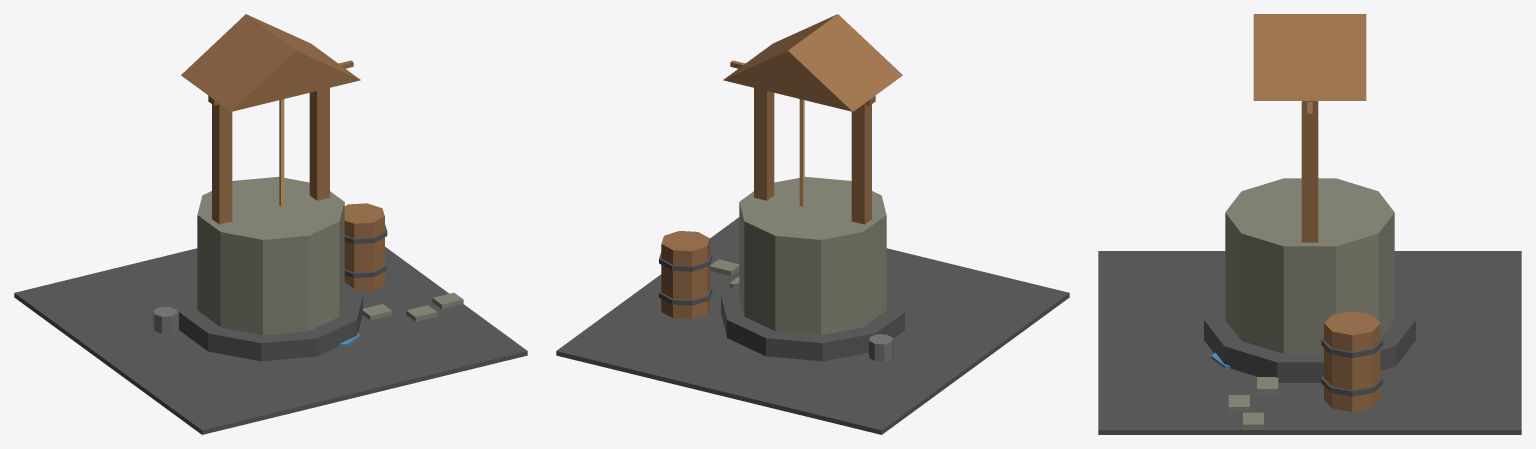
Rendered from well.glb.
3 renders of one model, left to right at view 1: azimuth 30°, elevation 25°; view 2: azimuth 150°, elevation 25°; view 3: azimuth 270°, elevation 25°, orthographic. The views are drawn at different scales.
Parts seen in each view (by area): view 1: Ground, Well_Wall, Well_Roof, Well_Base, WaterBarrel, Post_L, Post_R, Rope, SpareBucket; view 2: Ground, Well_Wall, Well_Roof, Well_Base, WaterBarrel, Post_L, Post_R, Rope, SpareBucket; view 3: Ground, Well_Wall, Well_Roof, Well_Base, WaterBarrel, Post_R, BarrelBand1, BarrelBand2.
Part boxes in pixels (bbox=[...]): Ground: bbox=[14, 247, 527, 434]; Well_Wall: bbox=[197, 176, 344, 335]; Well_Roof: bbox=[181, 14, 360, 111]; Well_Base: bbox=[179, 282, 362, 361]; WaterBarrel: bbox=[344, 203, 384, 291]; Post_L: bbox=[212, 103, 232, 224]; Post_R: bbox=[309, 88, 329, 200]; Rope: bbox=[279, 99, 284, 206]; SpareBucket: bbox=[153, 306, 177, 333]; Ground: bbox=[556, 217, 1069, 434]; Well_Wall: bbox=[739, 176, 886, 335]; Well_Roof: bbox=[723, 14, 902, 111]; Well_Base: bbox=[721, 282, 904, 361]; WaterBarrel: bbox=[661, 231, 709, 319]; Post_L: bbox=[851, 103, 871, 224]; Post_R: bbox=[754, 88, 774, 200]; Rope: bbox=[799, 99, 804, 206]; SpareBucket: bbox=[869, 334, 892, 361]; Ground: bbox=[1098, 251, 1521, 434]; Well_Wall: bbox=[1225, 178, 1394, 353]; Well_Roof: bbox=[1253, 14, 1366, 100]; Well_Base: bbox=[1204, 293, 1415, 382]; WaterBarrel: bbox=[1324, 311, 1380, 411]; Post_R: bbox=[1301, 101, 1318, 242]; BarrelBand1: bbox=[1321, 376, 1383, 396]; BarrelBand2: bbox=[1321, 337, 1383, 357].
Size of the model in its own units: 3 by 2.59 by 3.
